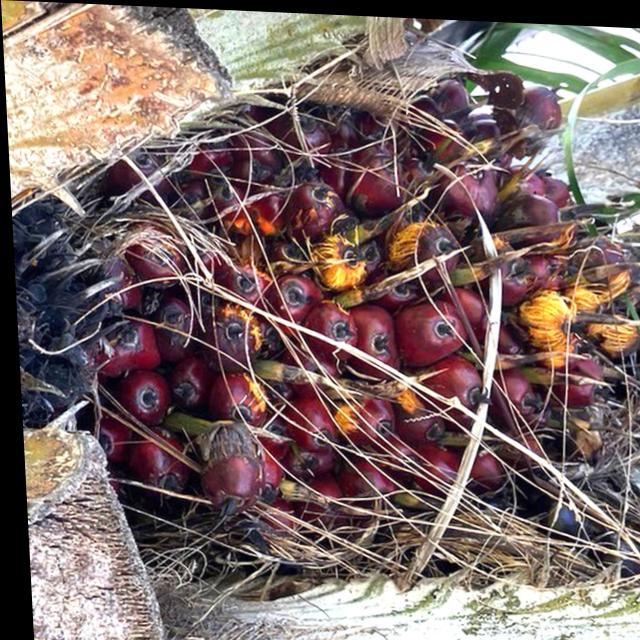ripe: (46, 32, 640, 580)
